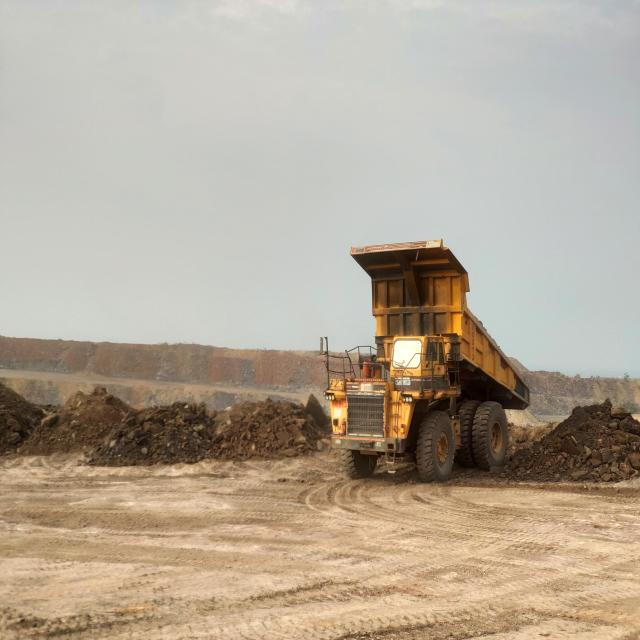dump_truck: (325, 240, 530, 482)
